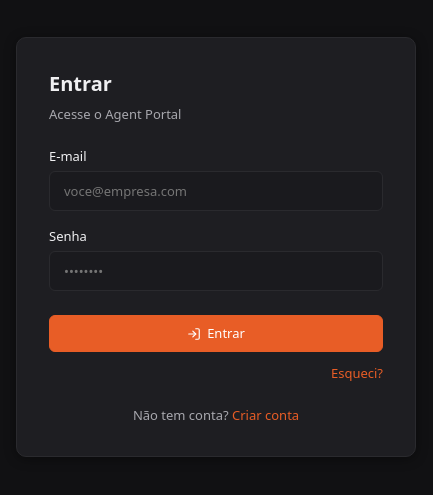
Test: LoginPage › shows validation error for invalid email format
Type "not-an-email" into the field labelled "E-mail". click: [216, 191]
box: [49,171,383,211]
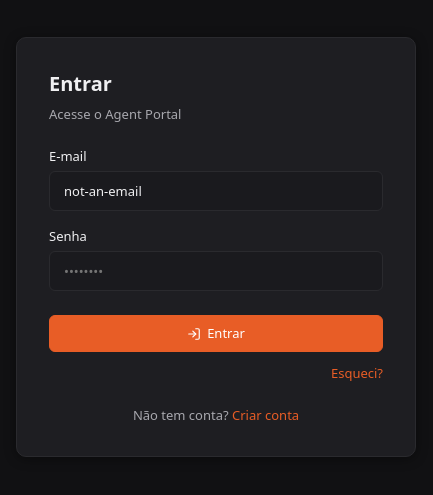
Click the button "Entrar". click: [216, 334]
box: [49,315,383,352]
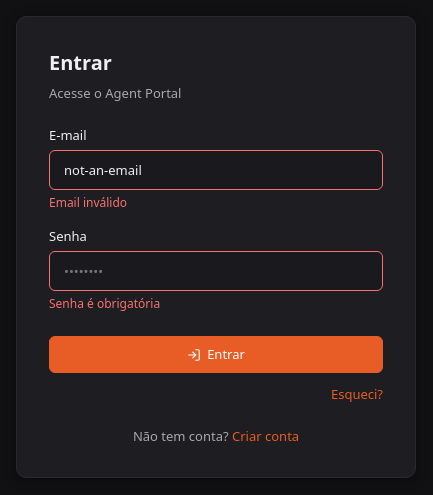
Check: the text "Email inválido" is shown, box [49,194,127,211]
